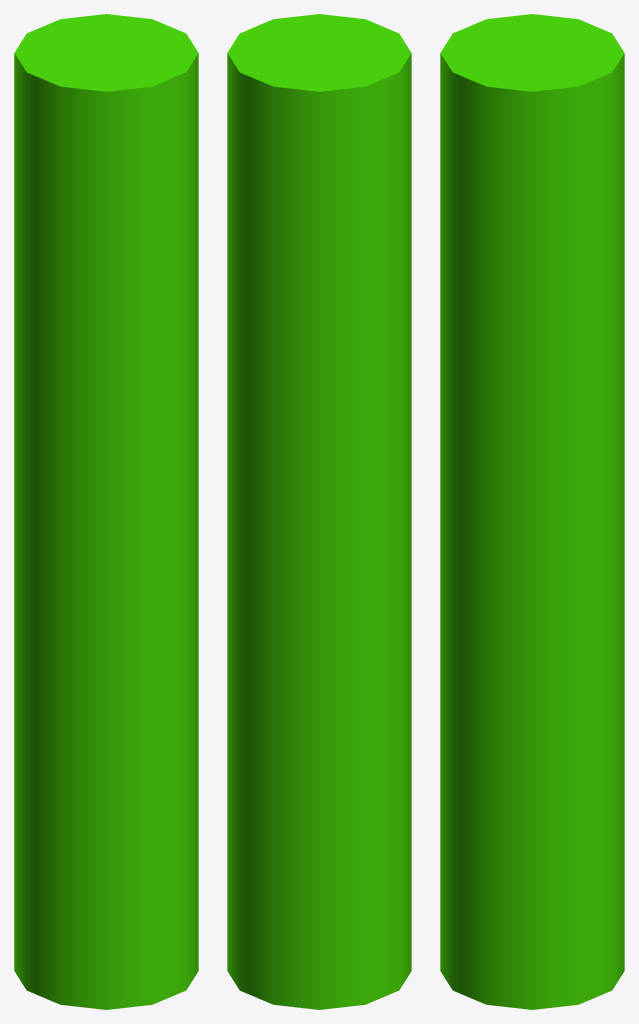
The model's file is Gamma Rod.fbx.
The picture shows the model from 3 angles, left to right: view 1: azimuth 30°, elevation 25°; view 2: azimuth 150°, elevation 25°; view 3: azimuth 270°, elevation 25°; orthographic projection.
Parts seen in each view (by area): view 1: Cylinder; view 2: Cylinder; view 3: Cylinder.
Boxes of the visible parts, bbox=[...] form: Cylinder: bbox=[14, 14, 198, 1009]; Cylinder: bbox=[227, 14, 411, 1009]; Cylinder: bbox=[440, 14, 624, 1009].
Size of the model in its own units: 4 by 22 by 4.
